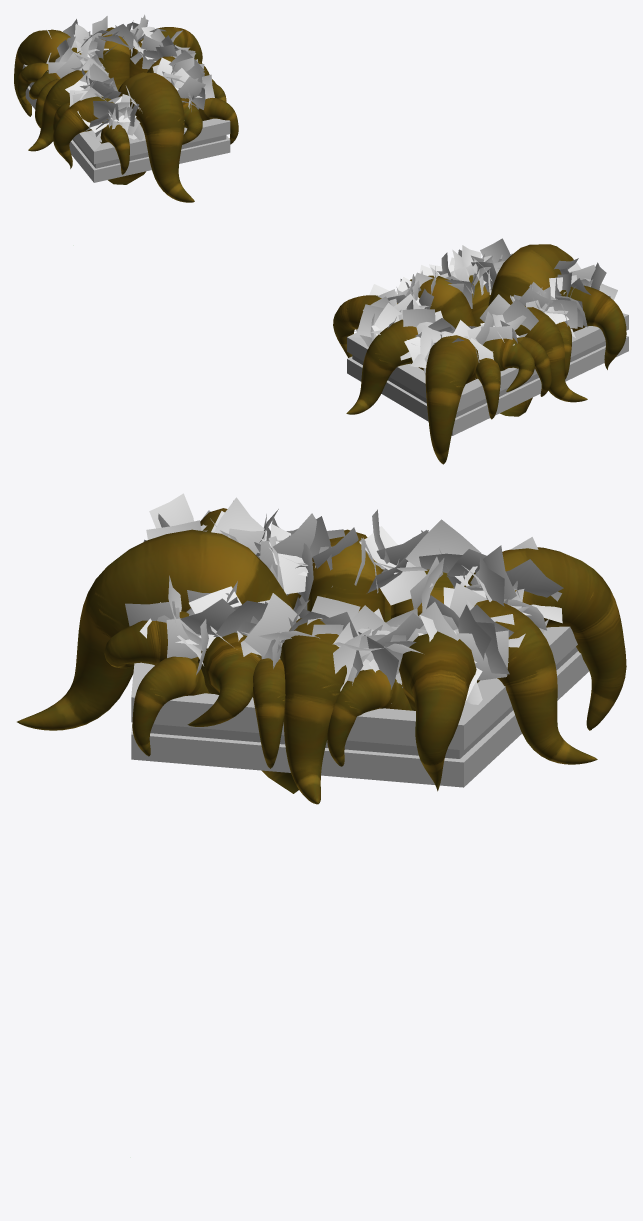
Rendered from FlowerPot.fbx.
The picture shows the model from 3 angles, top to bottom: view 1: azimuth 30°, elevation 25°; view 2: azimuth 150°, elevation 25°; view 3: azimuth 270°, elevation 25°; orthographic projection. The views are drawn at different scales.
Visible parts, largest first — view 1: BezierCurve.007, FlowerPot.002, FlowerPot; view 2: BezierCurve.007, FlowerPot.002, FlowerPot; view 3: BezierCurve.007, FlowerPot.002, FlowerPot.
Part boxes in pixels (x1,y1,x2,y2): BezierCurve.007: (14,27,238,202); FlowerPot.002: (46,14,214,142); FlowerPot: (22,64,230,182); BezierCurve.007: (333,244,626,464); FlowerPot.002: (355,238,617,378); FlowerPot: (347,313,628,435); BezierCurve.007: (17,508,626,804); FlowerPot.002: (125,493,563,704); FlowerPot: (131,596,589,787).
Size of what is drawn, in the model's own units: 276 by 133 by 60.91.
